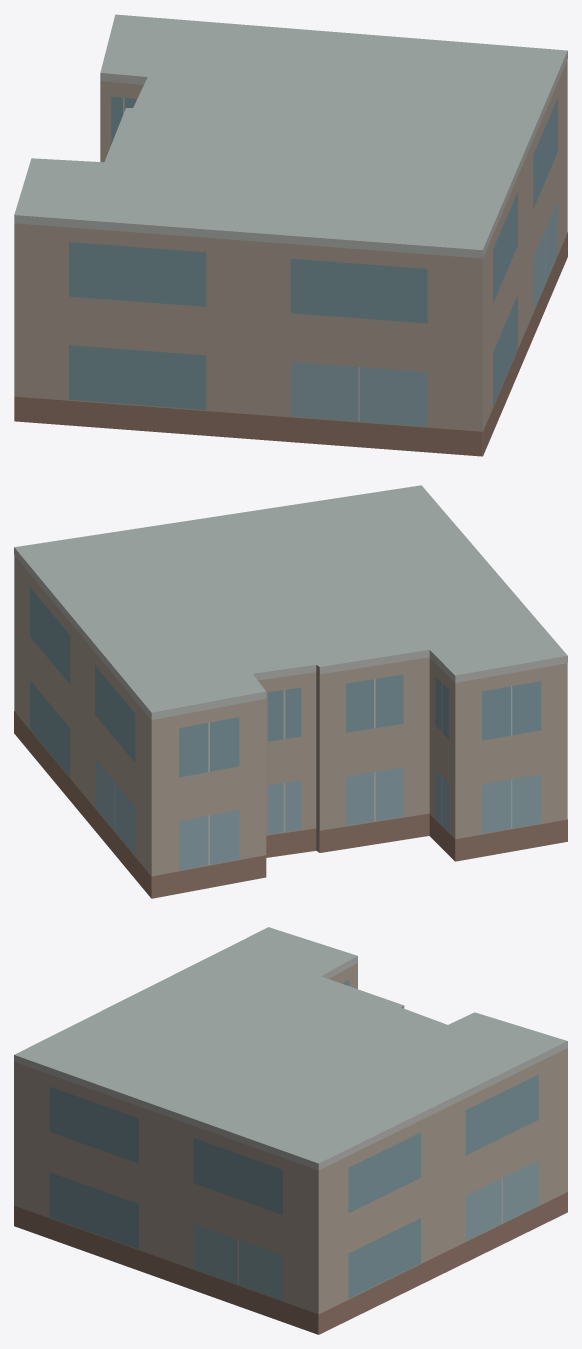
The model's file is survey-upis-32575666.glb.
3 views of the same model, one above another, from view 1: azimuth 30°, elevation 25°; view 2: azimuth 150°, elevation 25°; view 3: azimuth 270°, elevation 25° (orthographic). The views are drawn at different scales.
Parts seen in each view (by area): view 1: survey-upis-32575666.tmp; view 2: survey-upis-32575666.tmp; view 3: survey-upis-32575666.tmp.
Boxes of the visible parts, <box> form: survey-upis-32575666.tmp: <box>14,14,567,456</box>; survey-upis-32575666.tmp: <box>14,485,567,898</box>; survey-upis-32575666.tmp: <box>14,927,567,1334</box>.
Size of the model in its own units: 18.08 by 6.1 by 17.88.
